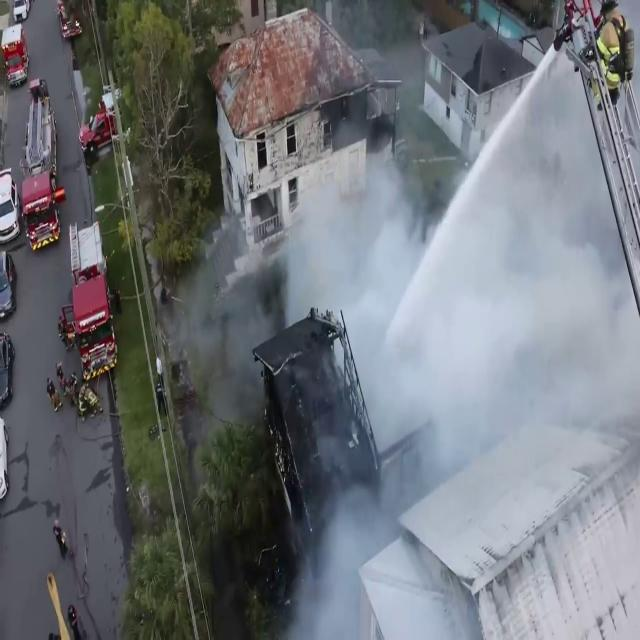Smoke: (332, 232, 438, 449)
